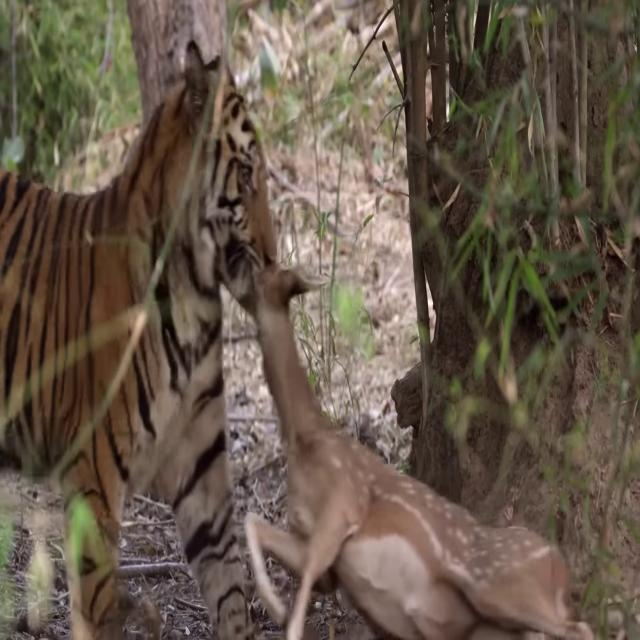tiger: (0, 37, 279, 640)
